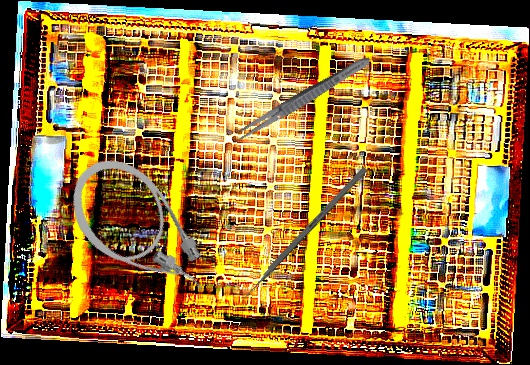Cannula: (53, 141, 224, 325)
Dressing Forceps: (228, 51, 374, 149)
Pusher: (234, 166, 368, 309)
